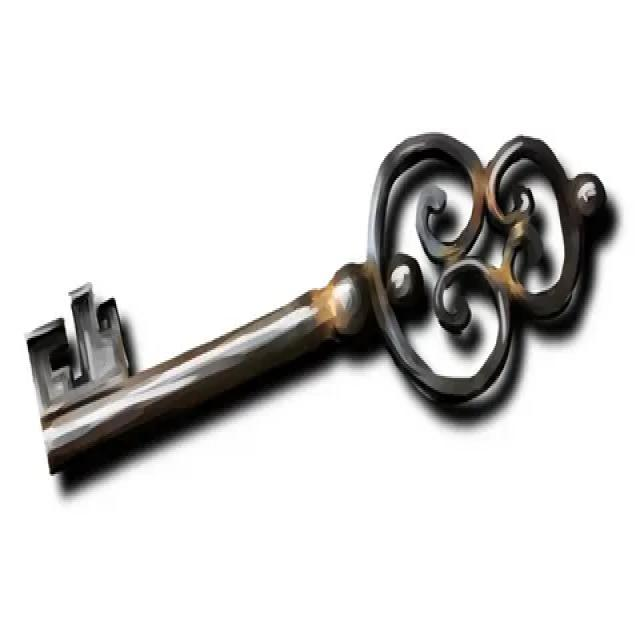key: (17, 121, 612, 506)
